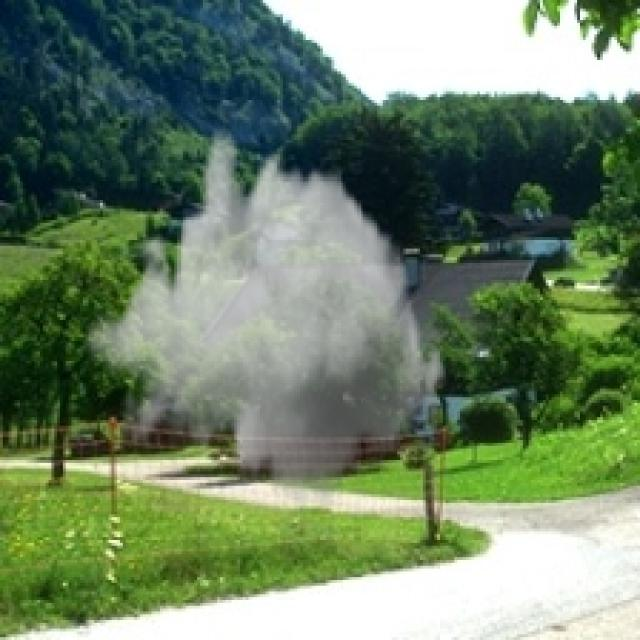smoke: (83, 123, 448, 517)
